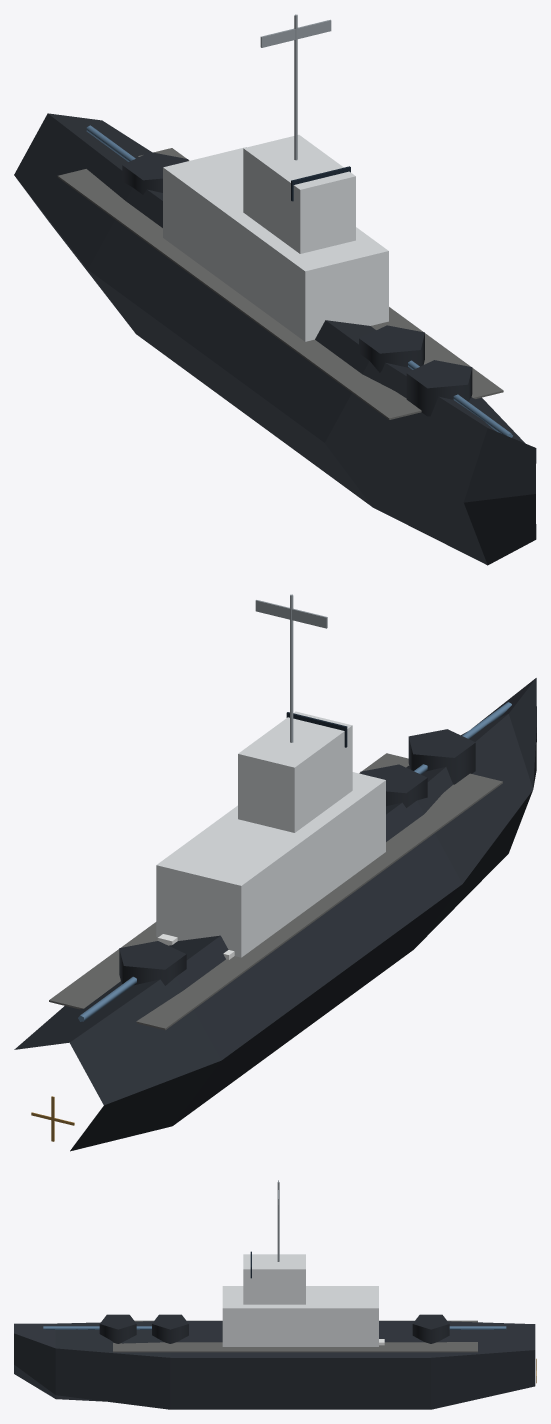
Rendered from veh_naval_warship_a09_lod1.glb.
3 renders of one model, top to bottom at view 1: azimuth 30°, elevation 25°; view 2: azimuth 150°, elevation 25°; view 3: azimuth 270°, elevation 25°, orthographic. The views are drawn at different scales.
Parts seen in each view (by area): view 1: body, turret_0, turret_1, turret_2, radar; view 2: body, turret_0, turret_2, turret_1, radar; view 3: body, turret_2, turret_0, turret_1.
Part boxes in pixels (left/top/right/bottom): body: left=14, top=14, right=536, bottom=565; turret_0: left=406, top=360, right=512, bottom=437; turret_1: left=359, top=325, right=463, bottom=403; turret_2: left=86, top=125, right=188, bottom=194; radar: left=260, top=19, right=331, bottom=47; body: left=14, top=594, right=536, bottom=1151; turret_0: left=408, top=702, right=511, bottom=784; turret_2: left=78, top=941, right=186, bottom=1021; turret_1: left=360, top=764, right=427, bottom=807; radar: left=255, top=600, right=327, bottom=628; body: left=14, top=1182, right=535, bottom=1409; turret_2: left=412, top=1314, right=506, bottom=1343; turret_0: left=43, top=1314, right=136, bottom=1343; turret_1: left=95, top=1314, right=188, bottom=1343.
Size of the model in its own units: 6.19 by 19.35 by 40.15.
